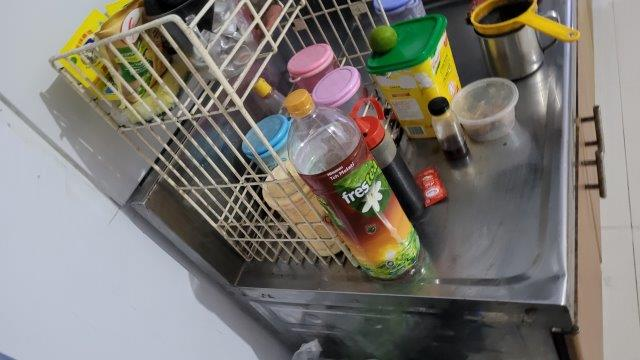botolplastik: (285, 92, 422, 279)
